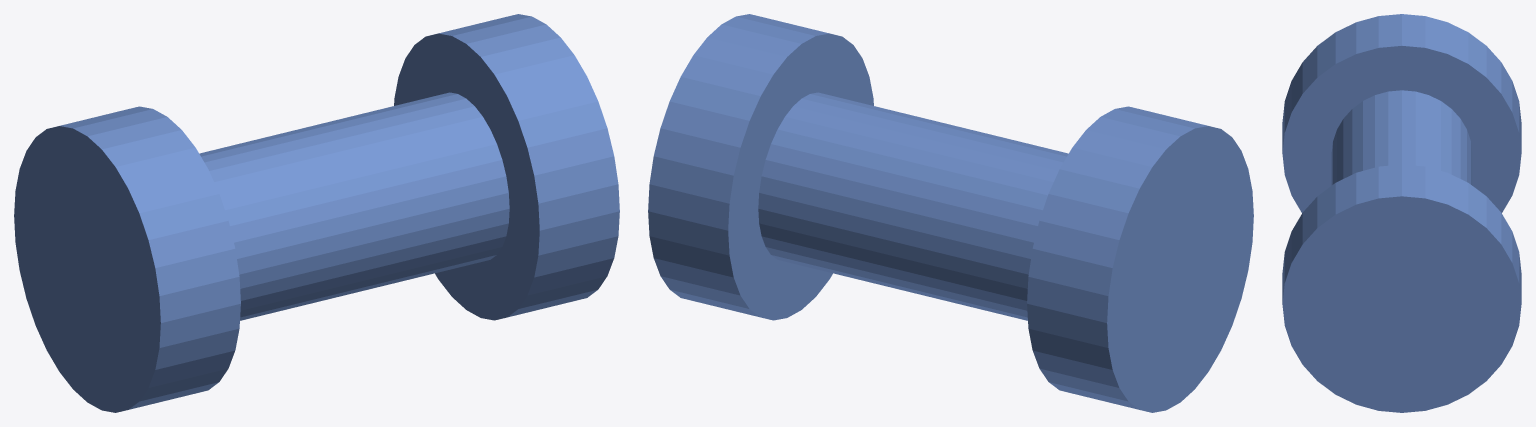
File: wheel.fbx
3 renders of one model, left to right at view 1: azimuth 30°, elevation 25°; view 2: azimuth 150°, elevation 25°; view 3: azimuth 270°, elevation 25°, orthographic. The views are drawn at different scales.
Parts seen in each view (by area): view 1: Cylinder; view 2: Cylinder; view 3: Cylinder.
Boxes of the visible parts, x1=… form: Cylinder: x1=14, y1=14, x2=619, y2=412; Cylinder: x1=648, y1=14, x2=1253, y2=412; Cylinder: x1=1282, y1=14, x2=1521, y2=412.
Bounding box in the file's own units: 61.25 × 33.93 × 33.93.
